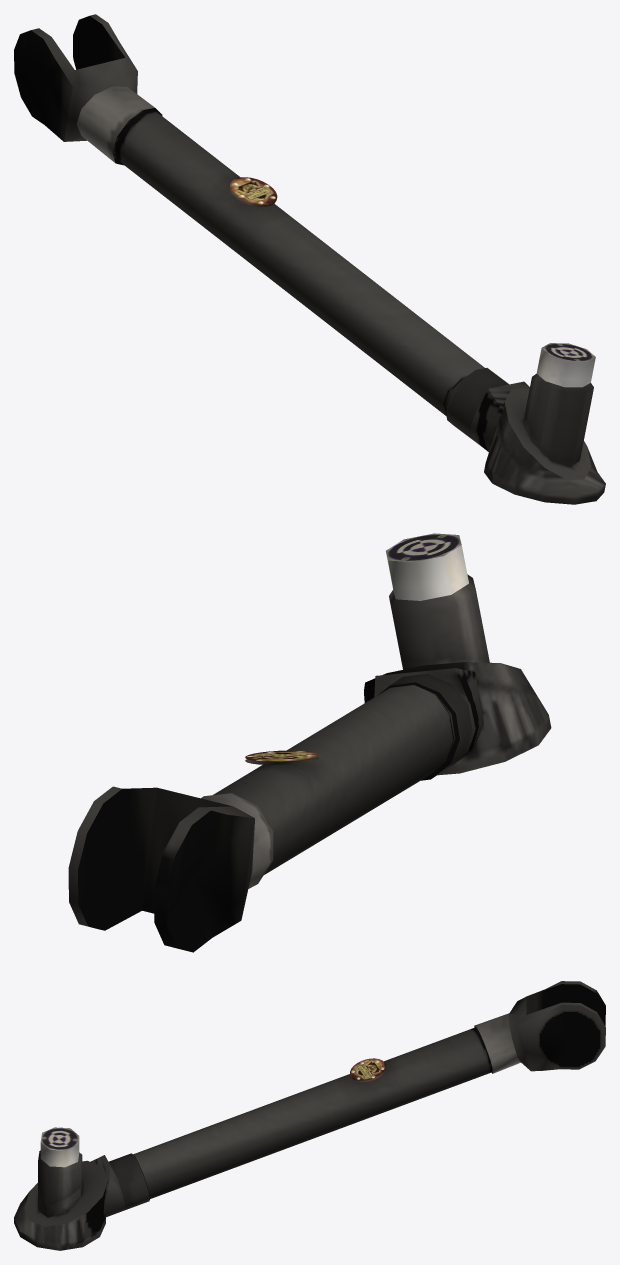
The model's file is suspension_arm_F_L_fixed.dae.
3 renders of one model, top to bottom at view 1: azimuth 30°, elevation 25°; view 2: azimuth 150°, elevation 25°; view 3: azimuth 270°, elevation 25°, orthographic. The views are drawn at different scales.
Parts seen in each view (by area): view 1: suspension_arm_F_L; view 2: suspension_arm_F_L; view 3: suspension_arm_F_L.
Boxes of the visible parts, x1=… form: suspension_arm_F_L: x1=14, y1=14, x2=605, y2=504; suspension_arm_F_L: x1=68, y1=533, x2=551, y2=952; suspension_arm_F_L: x1=14, y1=981, x2=605, y2=1250.
Bounding box in the file's own units: 0.3312 × 1.02 × 0.3609.
3 materials, 3 textured.
